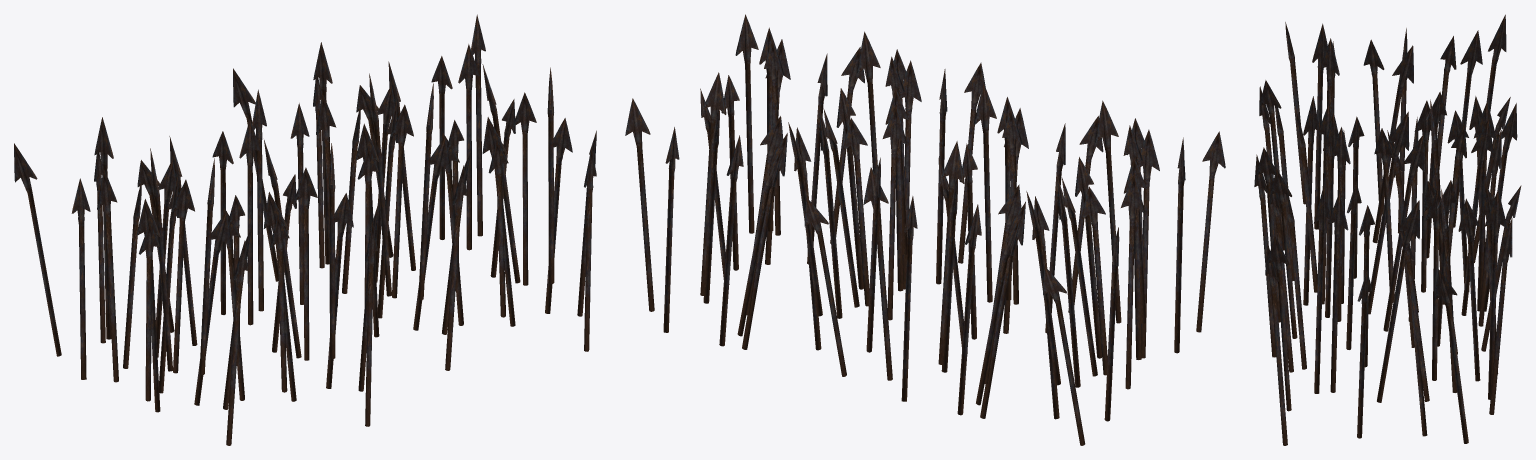
File: Spear0.fbx
The picture shows the model from 3 angles, left to right: view 1: azimuth 30°, elevation 25°; view 2: azimuth 150°, elevation 25°; view 3: azimuth 270°, elevation 25°; orthographic projection. The views are drawn at different scales.
Parts seen in each view (by area): view 1: LV_Nigraturis_Spear03_SM_HSH; view 2: LV_Nigraturis_Spear03_SM_HSH; view 3: LV_Nigraturis_Spear03_SM_HSH.
Boxes of the visible parts, box(x1,y1,x2,y2) form: LV_Nigraturis_Spear03_SM_HSH: box(14, 14, 596, 445); LV_Nigraturis_Spear03_SM_HSH: box(625, 14, 1225, 445); LV_Nigraturis_Spear03_SM_HSH: box(1254, 14, 1521, 445).
Size of the model in its own units: 1.57 by 0.9651 by 0.7999.
